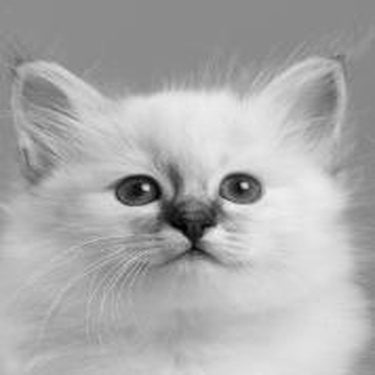cat: (4, 48, 359, 371)
